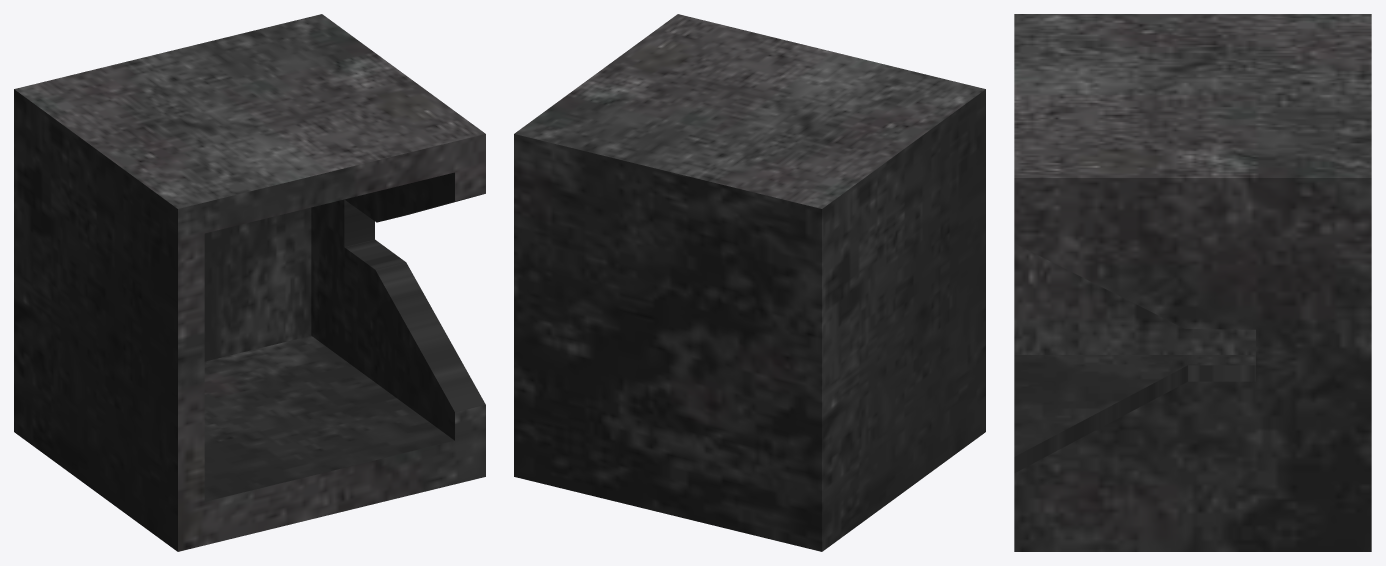
The model's file is cup_case.obj.
3 views of the same model, side by side, from view 1: azimuth 30°, elevation 25°; view 2: azimuth 150°, elevation 25°; view 3: azimuth 270°, elevation 25° (orthographic). The views are drawn at different scales.
Parts seen in each view (by area): view 1: cup_case_Cube; view 2: cup_case_Cube; view 3: cup_case_Cube.
Boxes of the visible parts, <box> form: cup_case_Cube: <box>14,14,485,551</box>; cup_case_Cube: <box>514,14,985,551</box>; cup_case_Cube: <box>1014,14,1371,551</box>.
Size of the model in its own units: 0.1127 by 0.1199 by 0.1038.
Materials: 1 (1 with a texture image).
